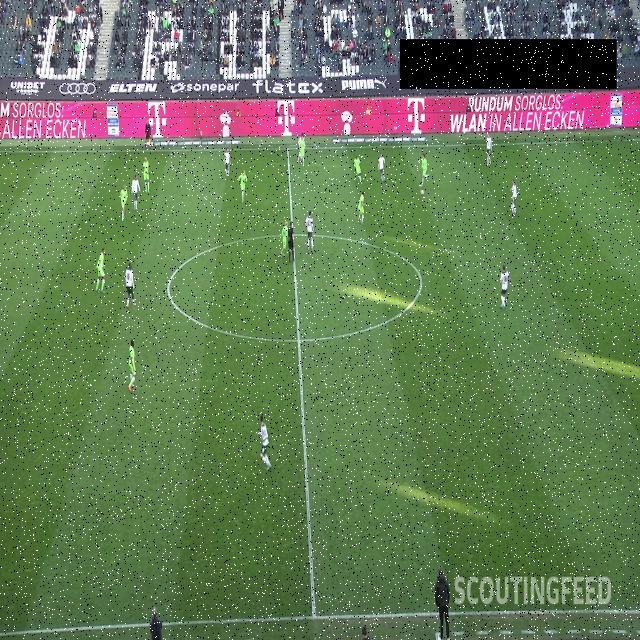Ball: (420, 189, 426, 196)
Referee: (288, 220, 295, 265), (145, 120, 152, 150)
TEAM 1: (94, 250, 108, 296), (127, 339, 138, 394), (278, 220, 288, 262), (119, 185, 129, 221), (238, 170, 248, 205), (420, 153, 429, 189), (353, 154, 363, 185), (357, 191, 366, 225), (142, 158, 150, 192), (299, 135, 306, 165)
TEAM 2: (256, 416, 271, 472), (498, 264, 510, 311), (125, 263, 136, 307), (304, 213, 316, 251), (130, 176, 142, 212), (509, 181, 519, 215), (484, 133, 493, 166), (378, 152, 386, 183), (225, 149, 232, 176), (298, 130, 303, 163)
